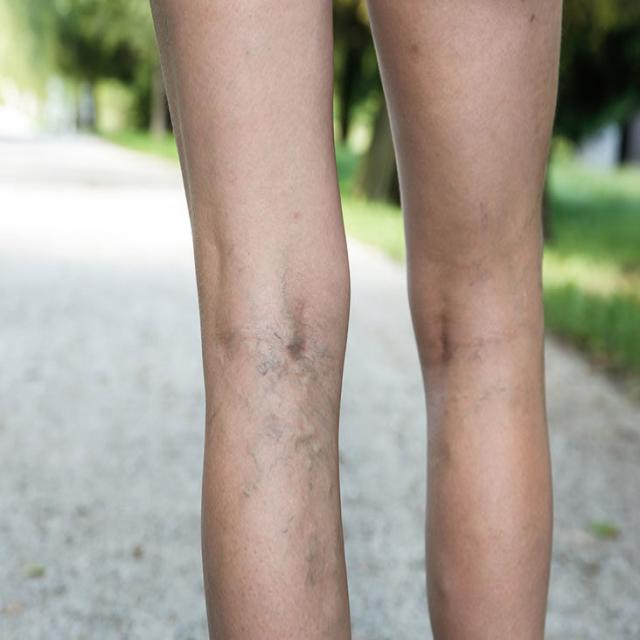Varicose: (193, 208, 430, 596)
